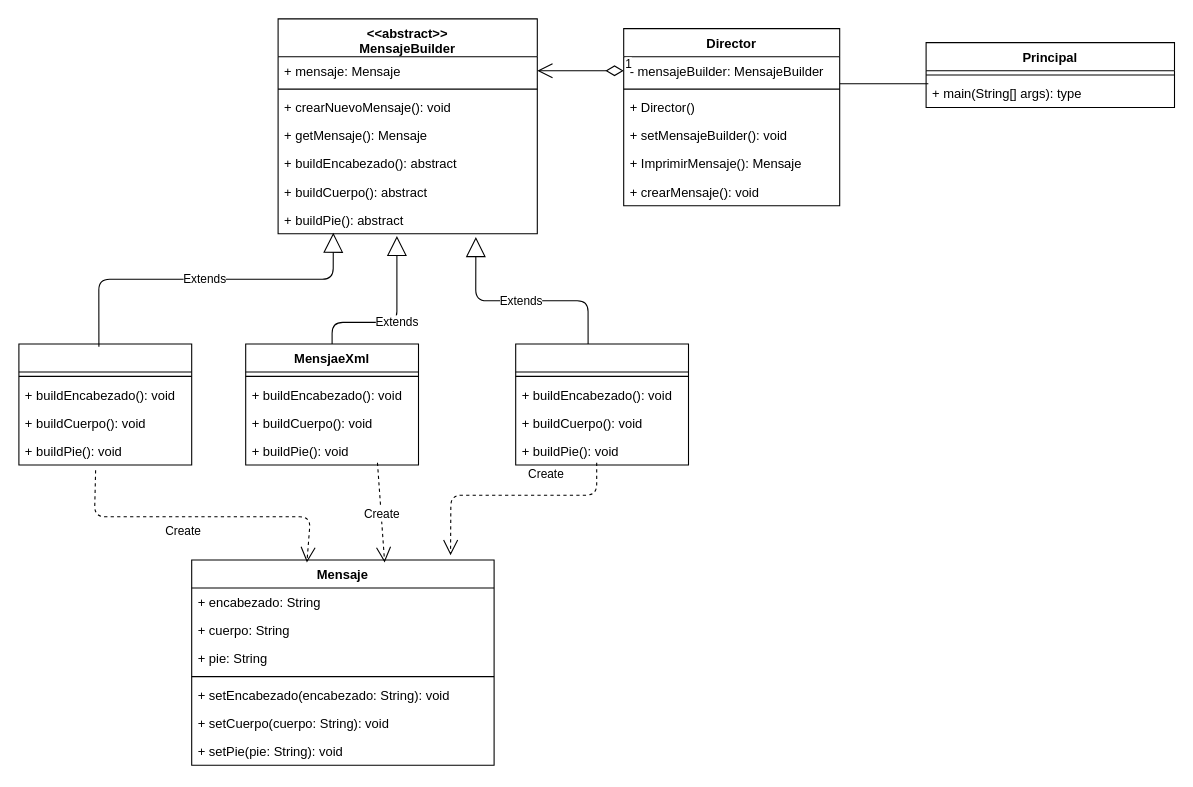
The diagram is 1193 pixels wide and 787 high, and some of its shapes have lost their labels. The shapes that lost their labels are listed below. From the top down, each one's box as (x1, y1, x2, y2) in pixels, then its label:
(18, 343, 192, 465): MensajeJson
(515, 343, 688, 465): MensajeEmail
